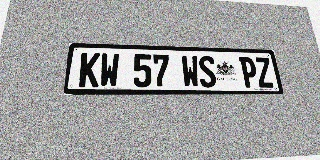5: (134, 54, 152, 87)
7: (152, 54, 170, 87)
K: (78, 52, 100, 87)
P: (239, 57, 259, 88)
S: (198, 56, 217, 87)
W: (99, 53, 119, 87), (181, 55, 200, 87)
Z: (254, 57, 275, 88)
